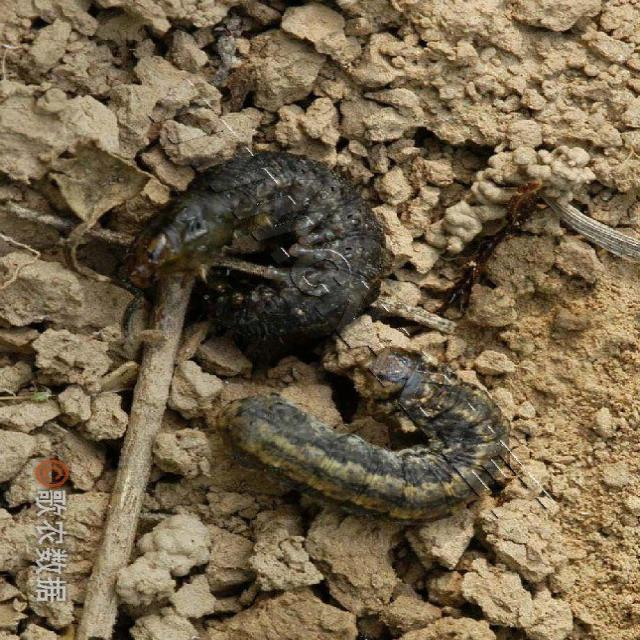black cutworm: (224, 346, 526, 530), (117, 145, 397, 340)
